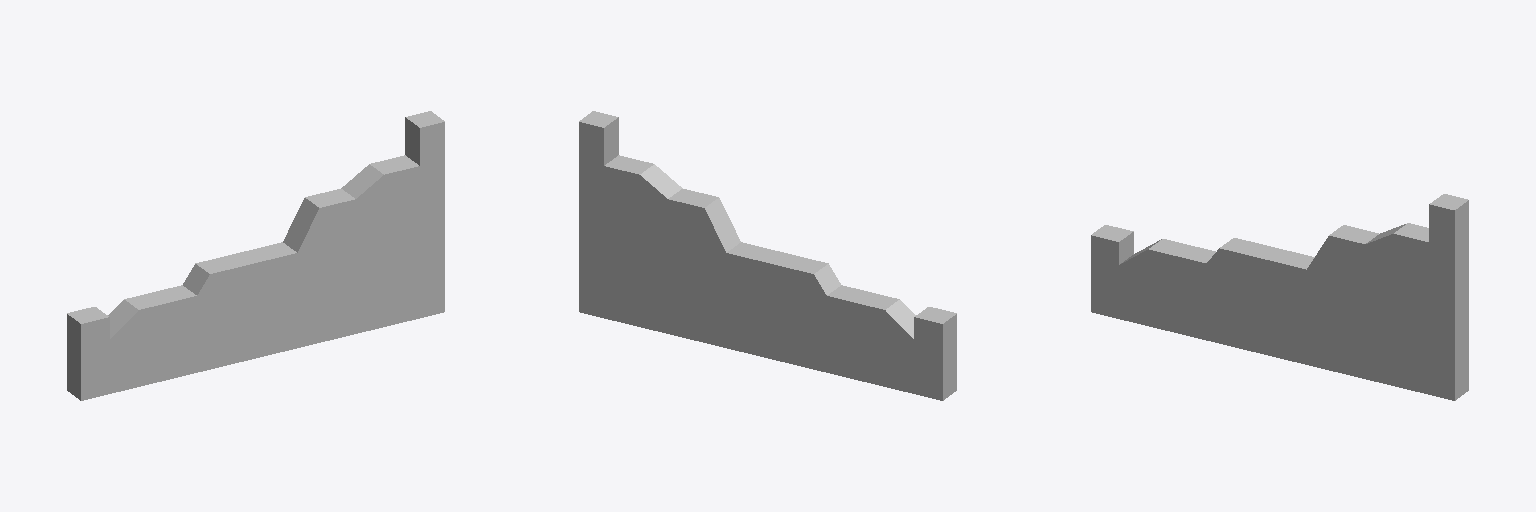
Rendered from wall-broken-type-b.obj.
3 views of the same model, side by side, from view 1: azimuth 30°, elevation 25°; view 2: azimuth 150°, elevation 25°; view 3: azimuth 330°, elevation 25° (orthographic).
Visible parts, largest first — view 1: wall-broken-type-b; view 2: wall-broken-type-b; view 3: wall-broken-type-b.
Boxes of the visible parts, box(x1,y1,x2,y2) form: wall-broken-type-b: box(67, 111, 444, 400); wall-broken-type-b: box(579, 111, 956, 400); wall-broken-type-b: box(1091, 194, 1468, 400).
Size of the model in its own units: 1 by 0.5 by 0.07.